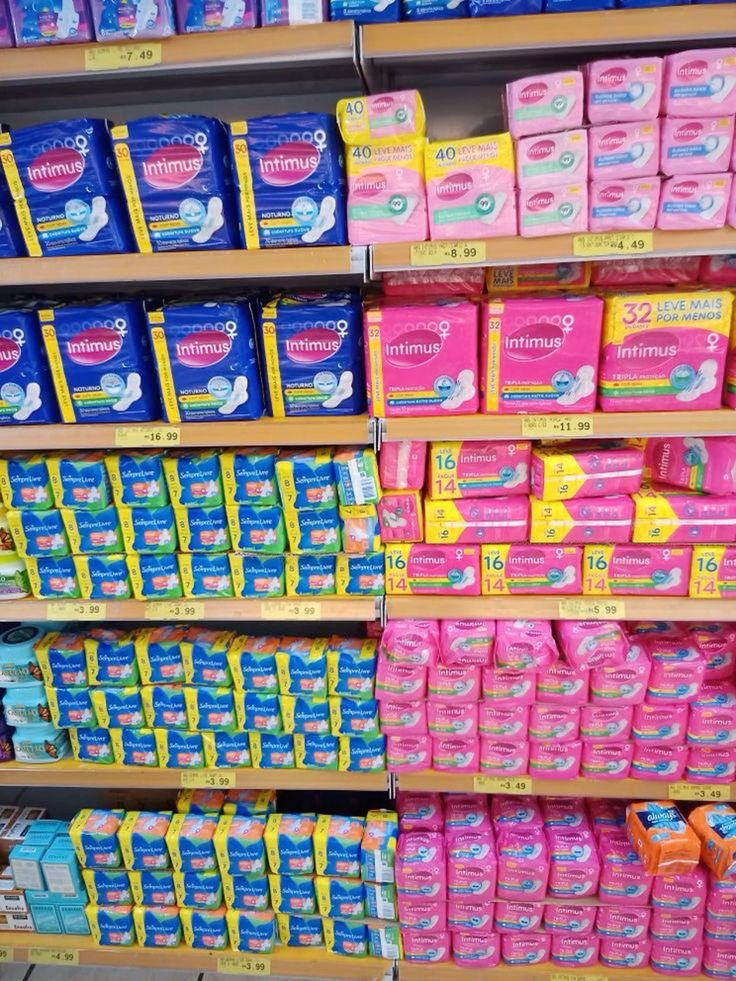Intimus: (237, 131, 335, 203)
